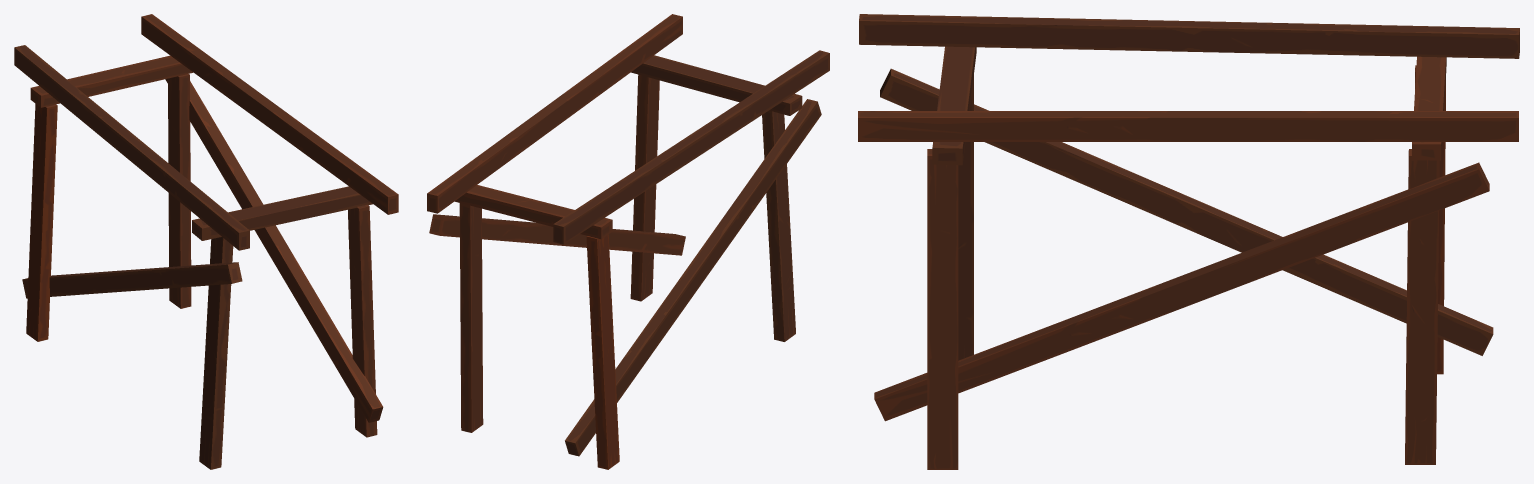
Rendered from ScaffoldingMid1.fbx.
The picture shows the model from 3 angles, left to right: view 1: azimuth 30°, elevation 25°; view 2: azimuth 150°, elevation 25°; view 3: azimuth 270°, elevation 25°; orthographic projection. The views are drawn at different scales.
Visible parts, largest first — view 1: ScaffoldingMid1; view 2: ScaffoldingMid1; view 3: ScaffoldingMid1.
Part boxes in pixels (x1,y1,x2,y2): ScaffoldingMid1: [14, 14, 398, 469]; ScaffoldingMid1: [427, 14, 829, 469]; ScaffoldingMid1: [858, 14, 1519, 469].
Bounding box in the file's own units: 266 × 385 × 659.
